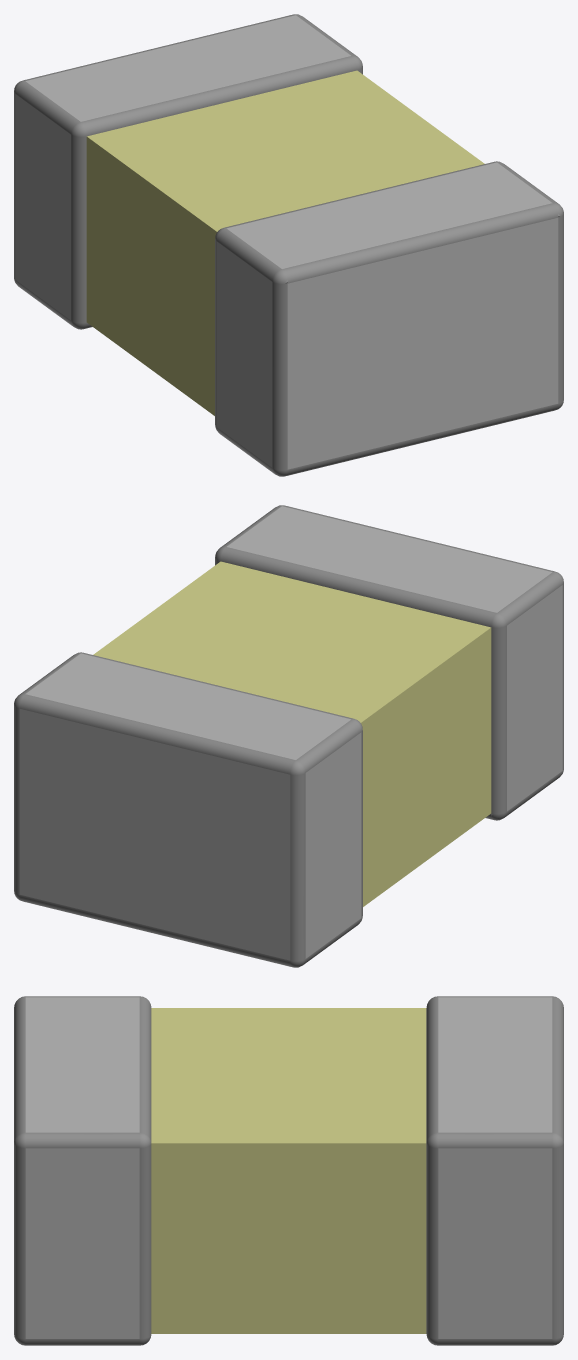
3 views of the same model, one above another, from view 1: azimuth 30°, elevation 25°; view 2: azimuth 150°, elevation 25°; view 3: azimuth 270°, elevation 25° (orthographic). The views are drawn at different scales.
Parts seen in each view (by area): view 1: Ceramic Capacitor; view 2: Ceramic Capacitor; view 3: Ceramic Capacitor.
Part boxes in pixels (bbox=[...]): Ceramic Capacitor: bbox=[14, 14, 563, 476]; Ceramic Capacitor: bbox=[14, 505, 563, 967]; Ceramic Capacitor: bbox=[14, 996, 563, 1345].
Bounding box in the file's own units: 0.00125 × 0.00085 × 0.002.
